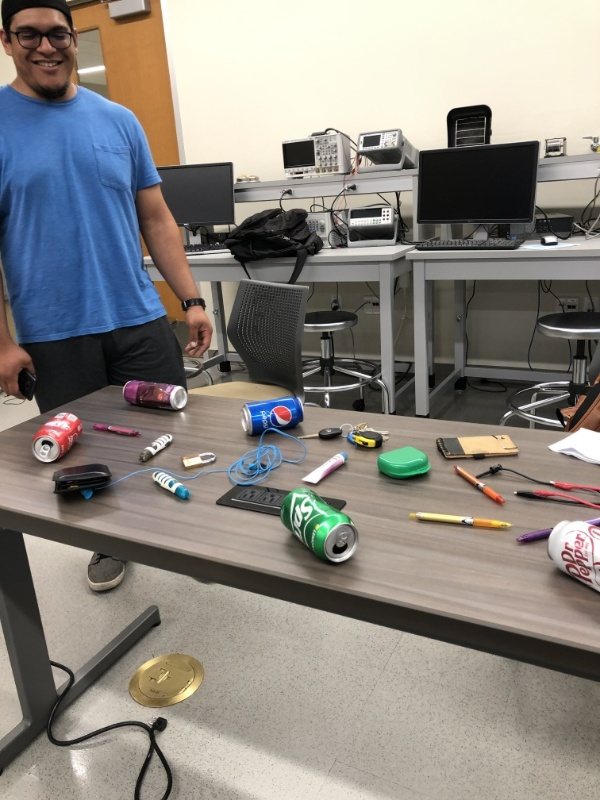can: (278, 484, 363, 568), (538, 514, 600, 597), (25, 409, 86, 464), (238, 393, 308, 437), (118, 375, 190, 414)
